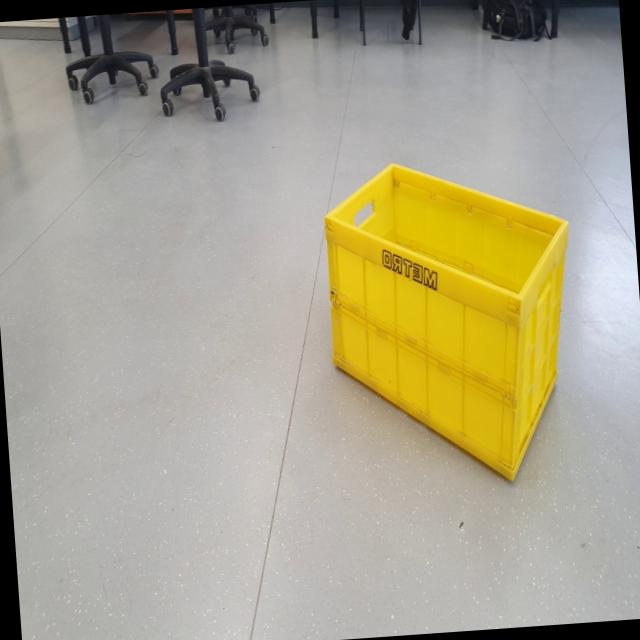box: (314, 140, 588, 499)
